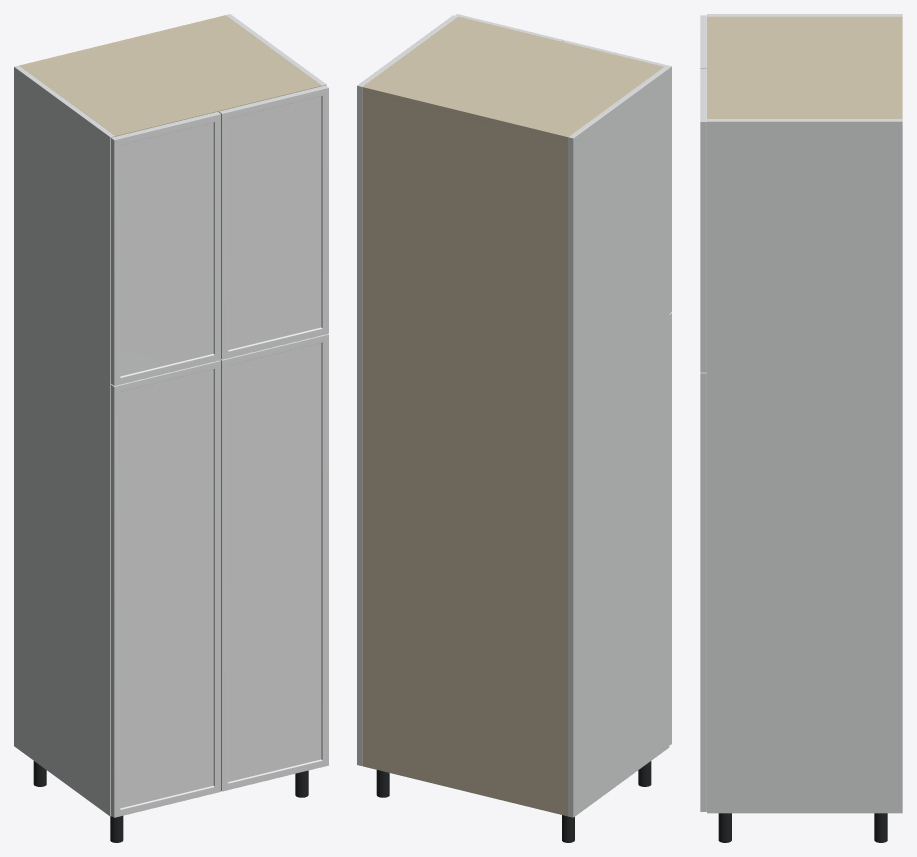
The model's file is oppein-ply-ssw-pc3090.glb.
The picture shows the model from 3 angles, left to right: view 1: azimuth 30°, elevation 25°; view 2: azimuth 150°, elevation 25°; view 3: azimuth 270°, elevation 25°; orthographic projection.
Parts seen in each view (by area): view 1: Cabinet side, Door, Door.001, Door.002, Door.003, Cabinet top; view 2: Cabinet back, Cabinet side, Cabinet top, Cabinet side.001, Door, Door.002; view 3: Cabinet side.001, Cabinet top, Door.001, Door.003, Cabinet side, Adjustable foot.002, Adjustable foot.003, Cabinet back.
Part boxes in pixels (left/top/right/bottom): Cabinet side: left=14, top=65, right=115, bottom=816; Door: left=111, top=360, right=220, bottom=817; Door.001: left=220, top=334, right=328, bottom=791; Door.002: left=111, top=112, right=220, bottom=385; Door.003: left=219, top=85, right=328, bottom=359; Cabinet top: left=21, top=16, right=321, bottom=136; Cabinet back: left=362, top=85, right=569, bottom=816; Cabinet side: left=568, top=67, right=669, bottom=817; Cabinet top: left=362, top=16, right=663, bottom=141; Cabinet side.001: left=357, top=15, right=457, bottom=765; Door: left=669, top=313, right=671, bottom=745; Door.002: left=563, top=40, right=671, bottom=313; Cabinet side.001: left=707, top=119, right=902, bottom=813; Cabinet top: left=707, top=16, right=898, bottom=118; Door.001: left=700, top=372, right=706, bottom=811; Door.003: left=700, top=69, right=706, bottom=372; Cabinet side: left=707, top=14, right=902, bottom=16; Adjustable foot.002: left=874, top=813, right=887, bottom=842; Adjustable foot.003: left=718, top=813, right=731, bottom=842; Cabinet back: left=899, top=16, right=902, bottom=118.
Bounding box in the file's own units: 0.762 × 2.4 × 0.6064.
